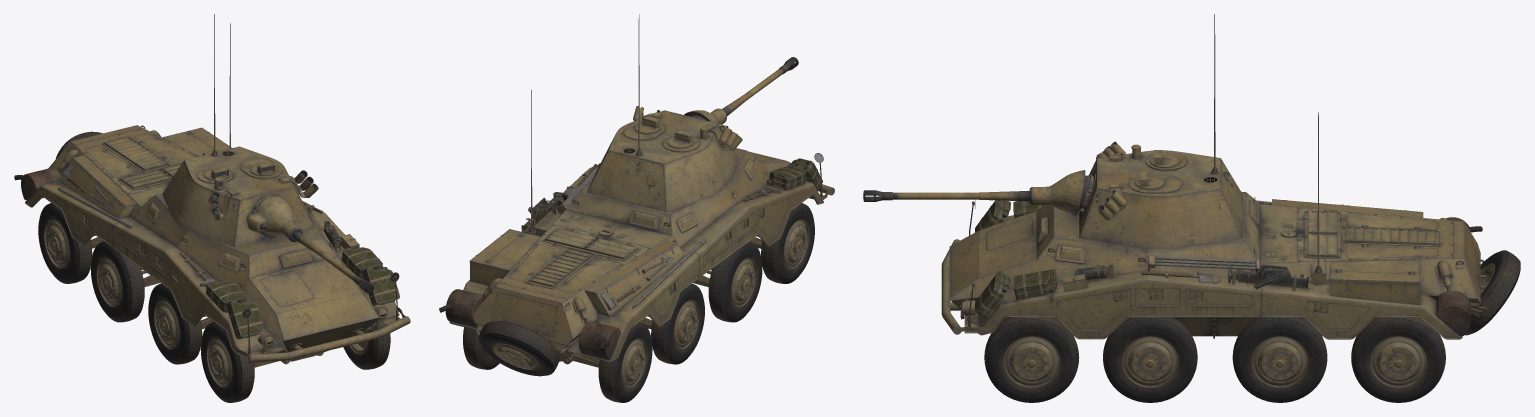
Rendered from Sd.Kfz.234_2.obj.
The picture shows the model from 3 angles, left to right: view 1: azimuth 30°, elevation 25°; view 2: azimuth 150°, elevation 25°; view 3: azimuth 270°, elevation 25°; orthographic projection. The views are drawn at different scales.
Visible parts, largest first — view 1: vehicle#x_root_118, vehicle#bone_turret_58, vehicle#wheel_r_03_93, vehicle#wheel_r_01_85, vehicle#wheel_r_04_96, vehicle#wheel_r_02_98, vehicle#ex_decor_r_11_47, vehicle#bone_gun_63, vehicle#ex_decor_01_25, vehicle#wheel_l_01_73, vehicle#ex_decor_r_03_29, vehicle#ex_decor_l_15_40 (+15 smaller); view 2: vehicle#x_root_118, vehicle#bone_turret_58, vehicle#wheel_r_02_98, vehicle#ex_decor_02_42, vehicle#wheel_r_04_96, vehicle#wheel_r_03_93, vehicle#wheel_r_01_85, vehicle#ex_decor_r_11_47, vehicle#ex_decor_l_15_40, vehicle#hatch_13_1, vehicle#hatch_10_11, vehicle#hatch_11_2 (+15 smaller); view 3: vehicle#x_root_118, vehicle#bone_turret_58, vehicle#wheel_l_03_79, vehicle#wheel_l_01_73, vehicle#wheel_l_02_76, vehicle#wheel_l_04_82, vehicle#ex_decor_l_15_40, vehicle#ex_decor_02_42, vehicle#ex_decor_l_07_33, vehicle#hatch_10_11, vehicle#bone_gun_63, vehicle#gun_barrel_64 (+15 smaller).
Boxes of the visible parts, <box> form: vehicle#x_root_118: <box>14,125,405,364</box>; vehicle#bone_turret_58: <box>162,146,314,247</box>; vehicle#wheel_r_03_93: <box>90,241,144,322</box>; vehicle#wheel_r_01_85: <box>200,322,254,402</box>; vehicle#wheel_r_04_96: <box>38,203,92,283</box>; vehicle#wheel_r_02_98: <box>148,283,202,364</box>; vehicle#ex_decor_r_11_47: <box>59,155,136,218</box>; vehicle#bone_gun_63: <box>247,196,302,242</box>; vehicle#ex_decor_01_25: <box>248,316,410,362</box>; vehicle#wheel_l_01_73: <box>343,324,390,369</box>; vehicle#ex_decor_r_03_29: <box>226,298,263,339</box>; vehicle#ex_decor_l_15_40: <box>162,127,232,156</box>; vehicle#x_root_118: <box>439,148,833,365</box>; vehicle#bone_turret_58: <box>587,110,738,212</box>; vehicle#wheel_r_02_98: <box>708,241,762,322</box>; vehicle#ex_decor_02_42: <box>478,321,559,376</box>; vehicle#wheel_r_04_96: <box>598,322,652,402</box>; vehicle#wheel_r_03_93: <box>651,283,704,364</box>; vehicle#wheel_r_01_85: <box>761,203,814,283</box>; vehicle#ex_decor_r_11_47: <box>584,240,684,316</box>; vehicle#ex_decor_l_15_40: <box>469,229,540,285</box>; vehicle#hatch_13_1: <box>492,293,557,336</box>; vehicle#hatch_10_11: <box>541,228,640,261</box>; vehicle#hatch_11_2: <box>558,258,620,292</box>; vehicle#x_root_118: <box>949,191,1488,339</box>; vehicle#bone_turret_58: <box>1078,144,1242,248</box>; vehicle#wheel_l_03_79: <box>1232,317,1327,402</box>; vehicle#wheel_l_01_73: <box>984,317,1079,402</box>; vehicle#wheel_l_02_76: <box>1103,317,1197,402</box>; vehicle#wheel_l_04_82: <box>1351,317,1445,402</box>; vehicle#ex_decor_l_15_40: <box>1330,260,1420,304</box>; vehicle#ex_decor_02_42: <box>1465,250,1520,335</box>; vehicle#ex_decor_l_07_33: <box>1057,288,1130,331</box>; vehicle#hatch_10_11: <box>1305,210,1341,258</box>; vehicle#bone_gun_63: <box>1029,170,1085,216</box>; vehicle#gun_barrel_64: <box>863,190,1029,201</box>.
Bounding box in the file's own units: 2.38 × 4.24 × 7.23.
Materials: 7 (7 with a texture image).
